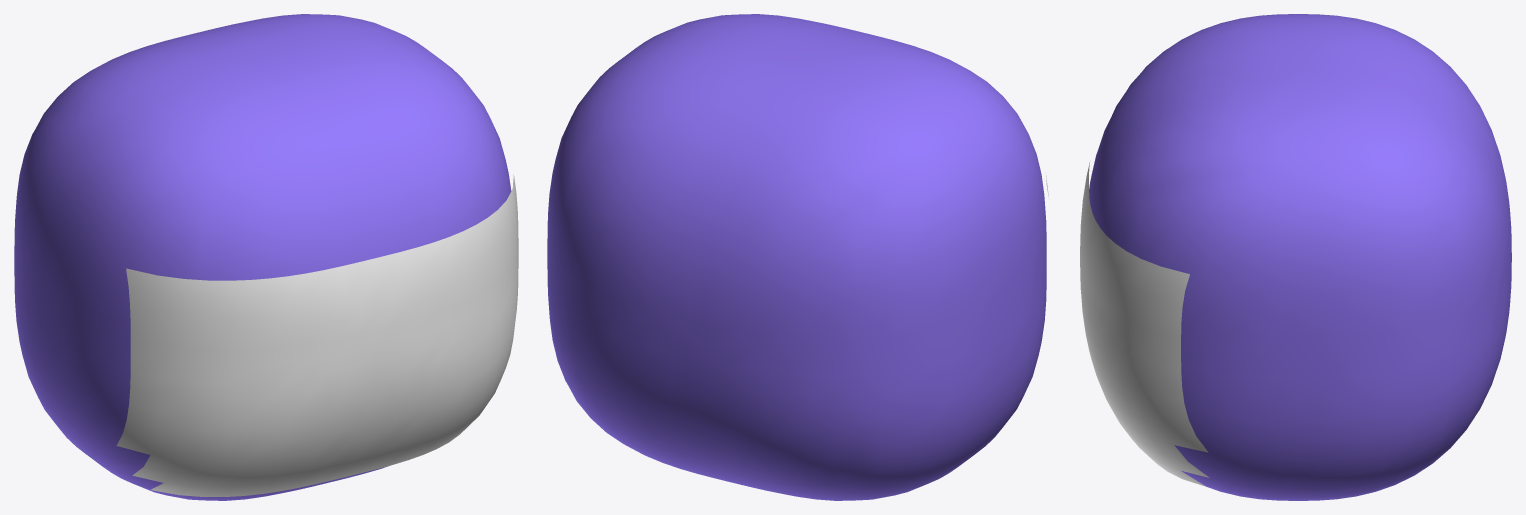
The model's file is head-soft-square.glb.
3 views of the same model, side by side, from view 1: azimuth 30°, elevation 25°; view 2: azimuth 150°, elevation 25°; view 3: azimuth 270°, elevation 25° (orthographic). The views are drawn at different scales.
Parts seen in each view (by area): view 1: head-soft-square-mesh, face; view 2: head-soft-square-mesh; view 3: head-soft-square-mesh, face.
Part boxes in pixels (x1=…): head-soft-square-mesh: x1=14, y1=14, x2=511, y2=500; face: x1=116, y1=174, x2=518, y2=496; head-soft-square-mesh: x1=547, y1=14, x2=1046, y2=500; head-soft-square-mesh: x1=1089, y1=14, x2=1511, y2=500; face: x1=1080, y1=162, x2=1209, y2=486.
Bounding box in the file's own units: 1.24 × 1.14 × 1.13.
